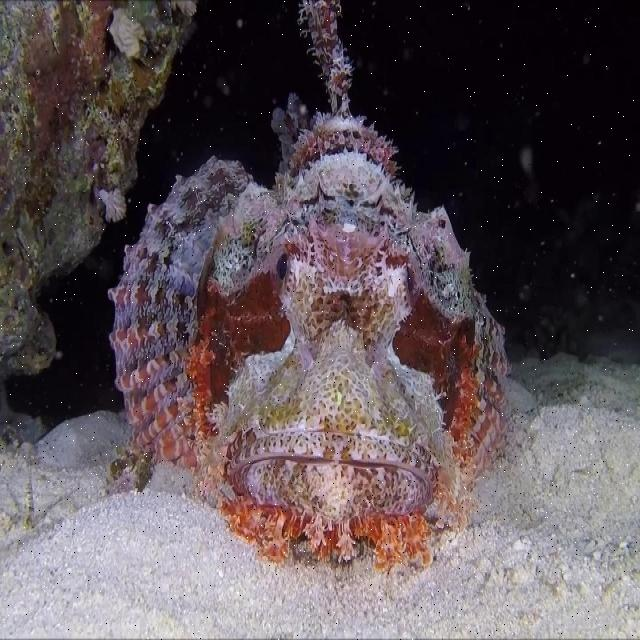fish: (108, 0, 518, 573)
